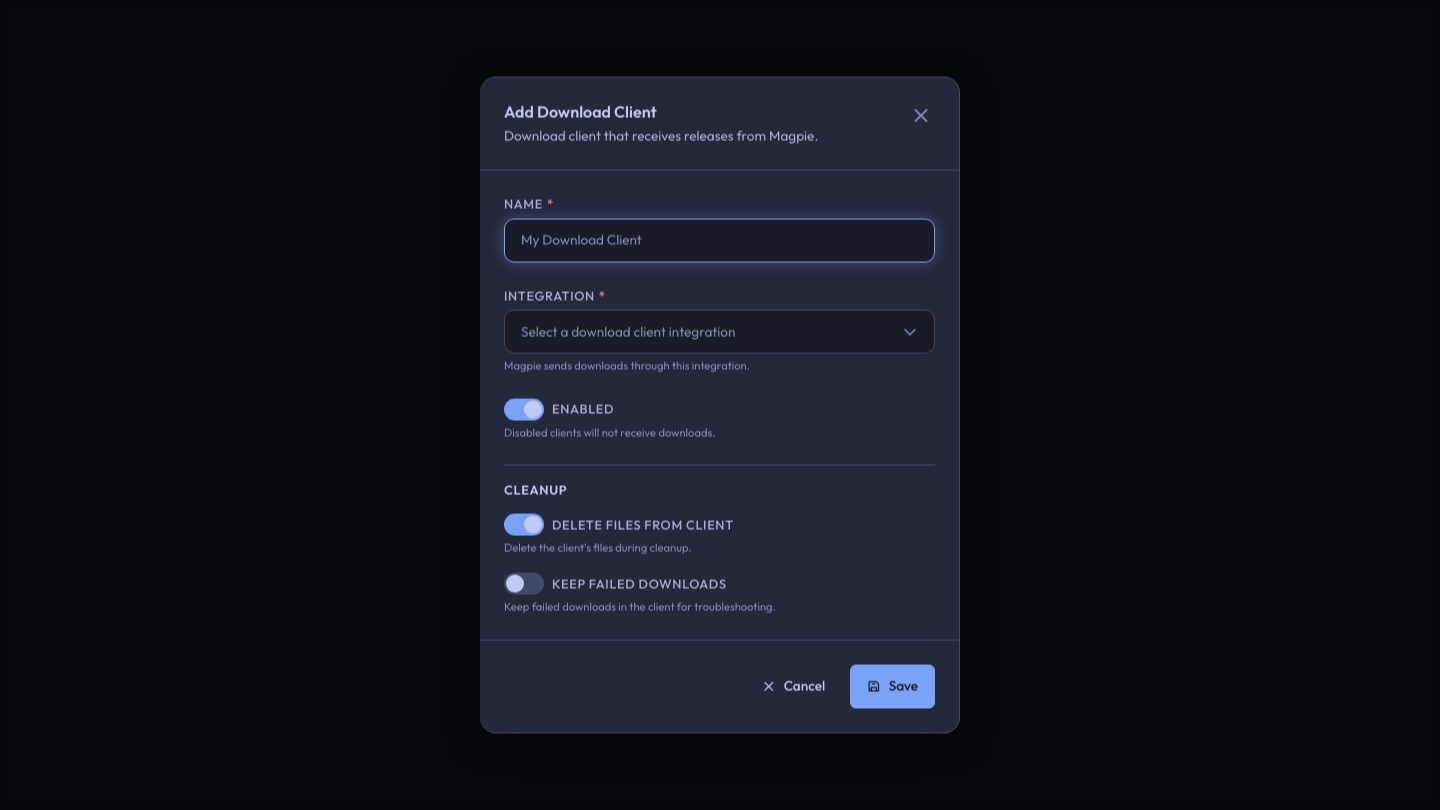
Test case: DownloadClientForm schema integration › keeps the provider selected, preserves the name, and renders settings when adding a provider with a schema (MAGPIE-688)
The width and height of the screenshot is (1440, 810).
Type "My Client" into the field labelled "Name *".
click(720, 240); type("My Client")  # box [505,222,934,258]
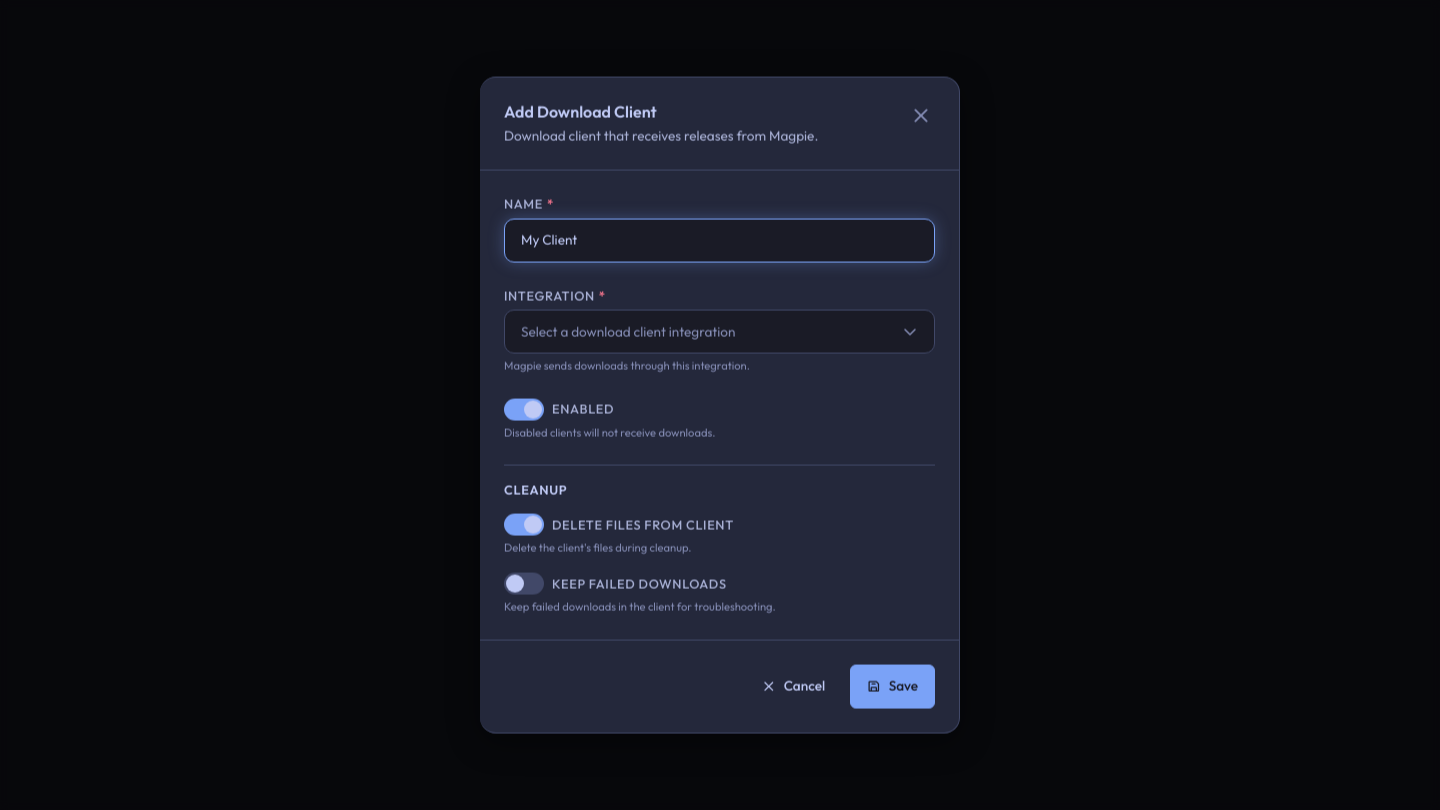
Click the dropdown labelled "Select a download client integration".
click(720, 331)  # box [504,309,935,353]
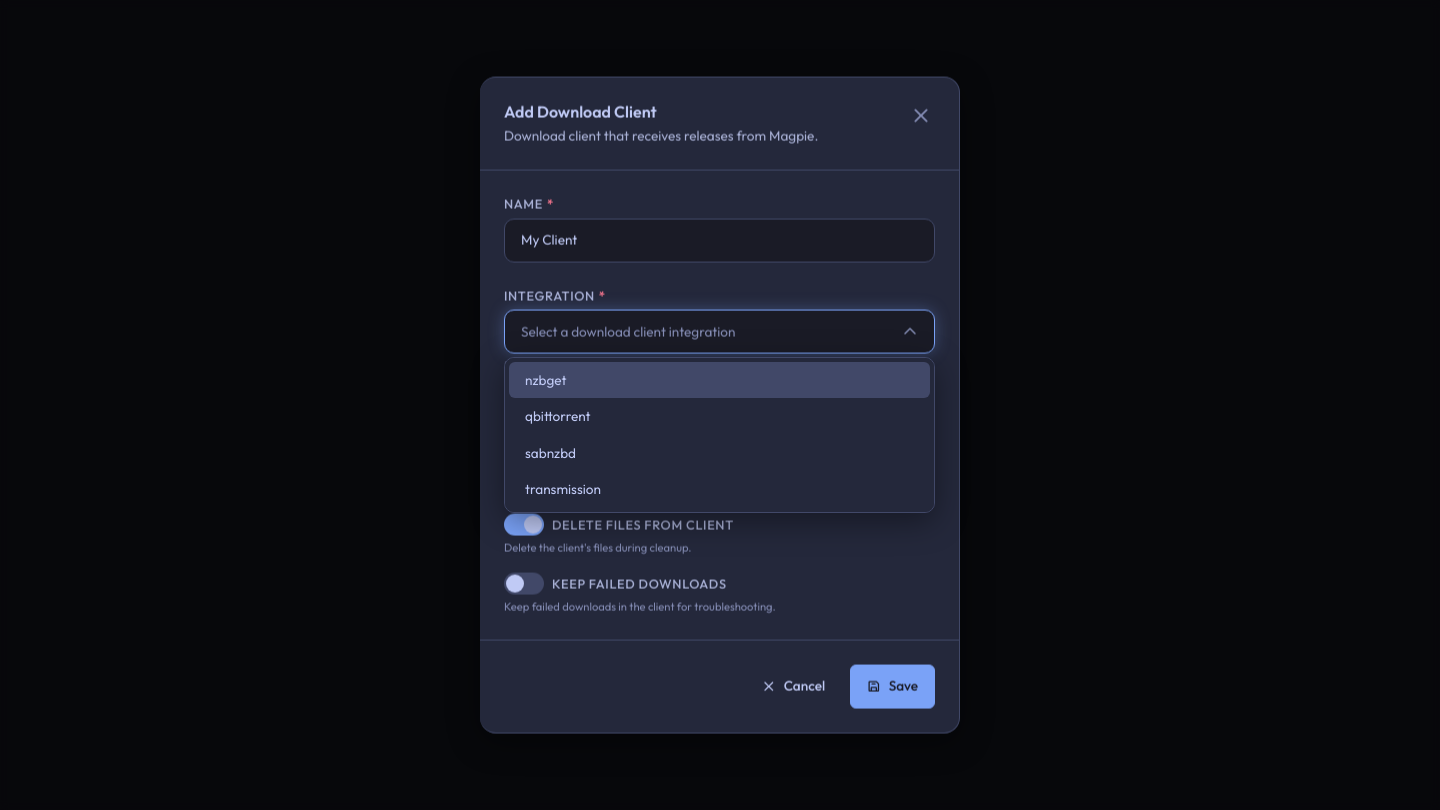
Click the option "sabnzbd".
click(550, 453)  # box [525,444,576,462]
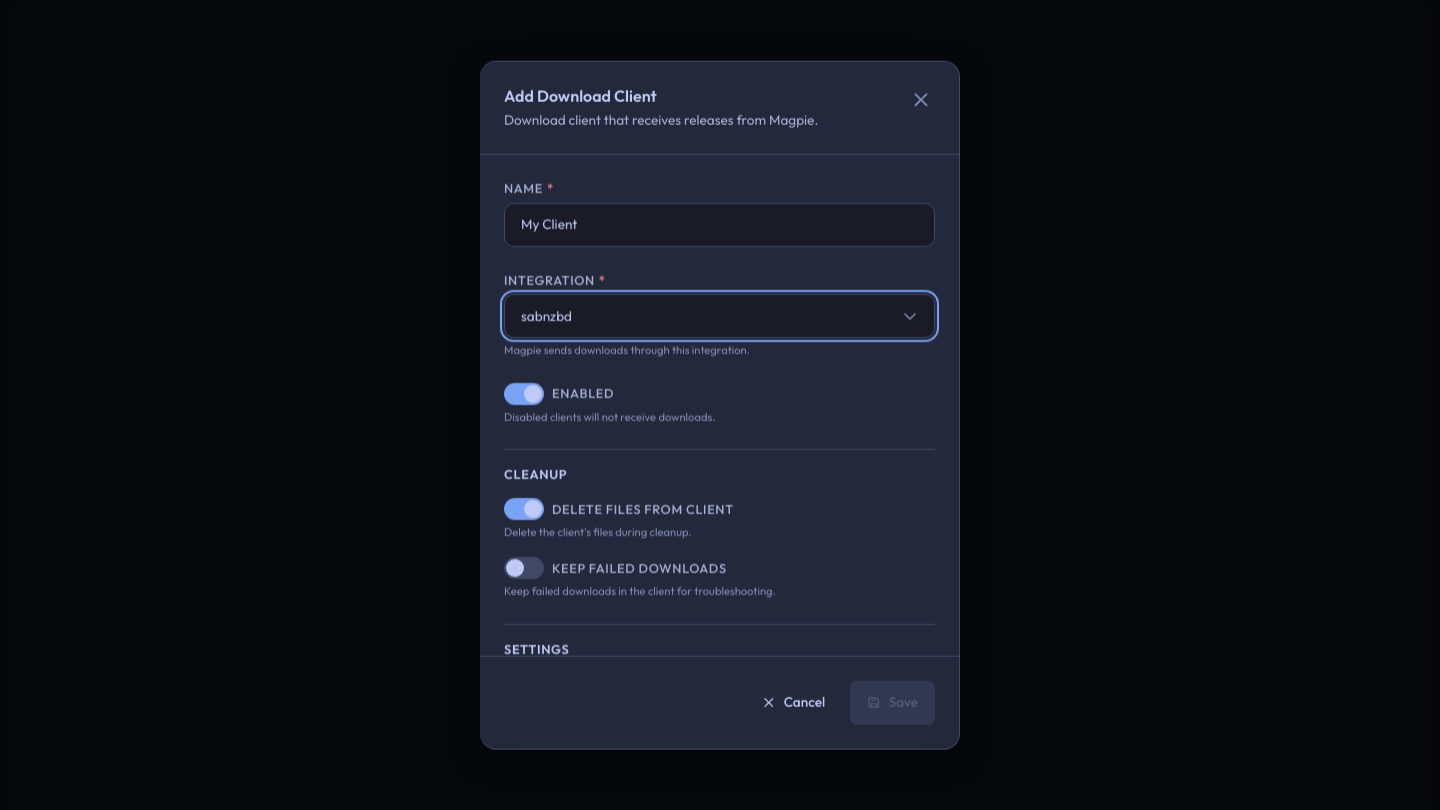
Expected: the dropdown named "integration" reads "sabnzbd", [504,294,935,338]
